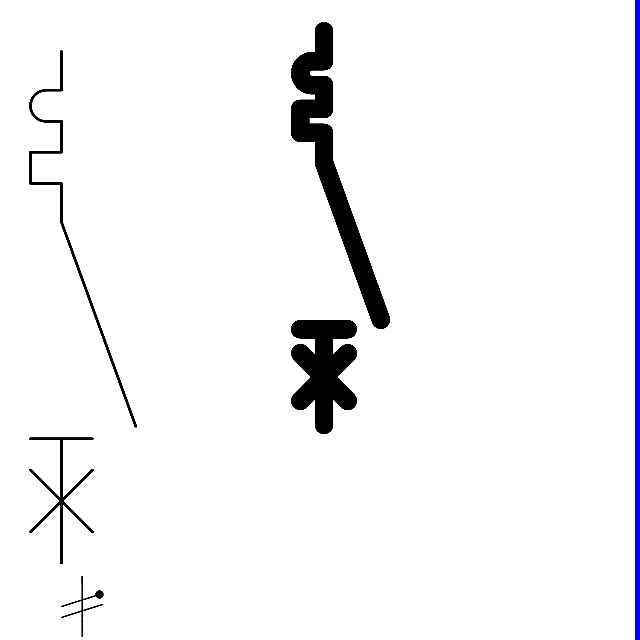interruptor_termomagnetico: (17, 38, 149, 576), (290, 21, 391, 435)
